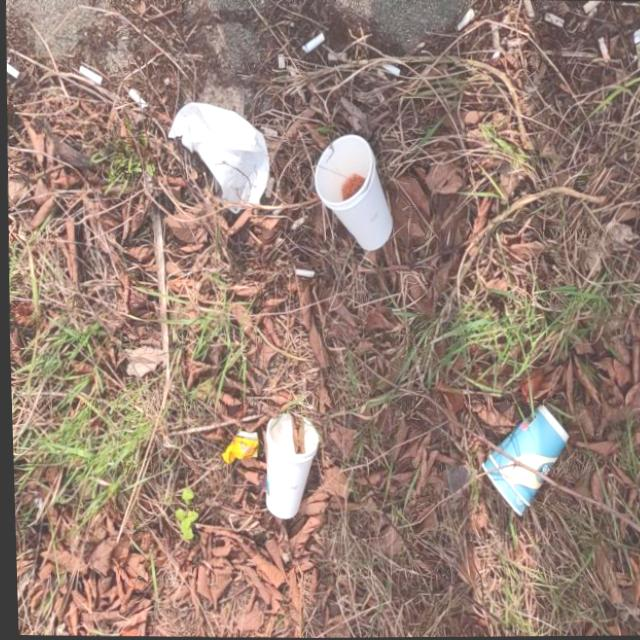Cup: (474, 398, 571, 521), (308, 129, 395, 257), (259, 408, 320, 523)
Plastic: (217, 425, 257, 466)
